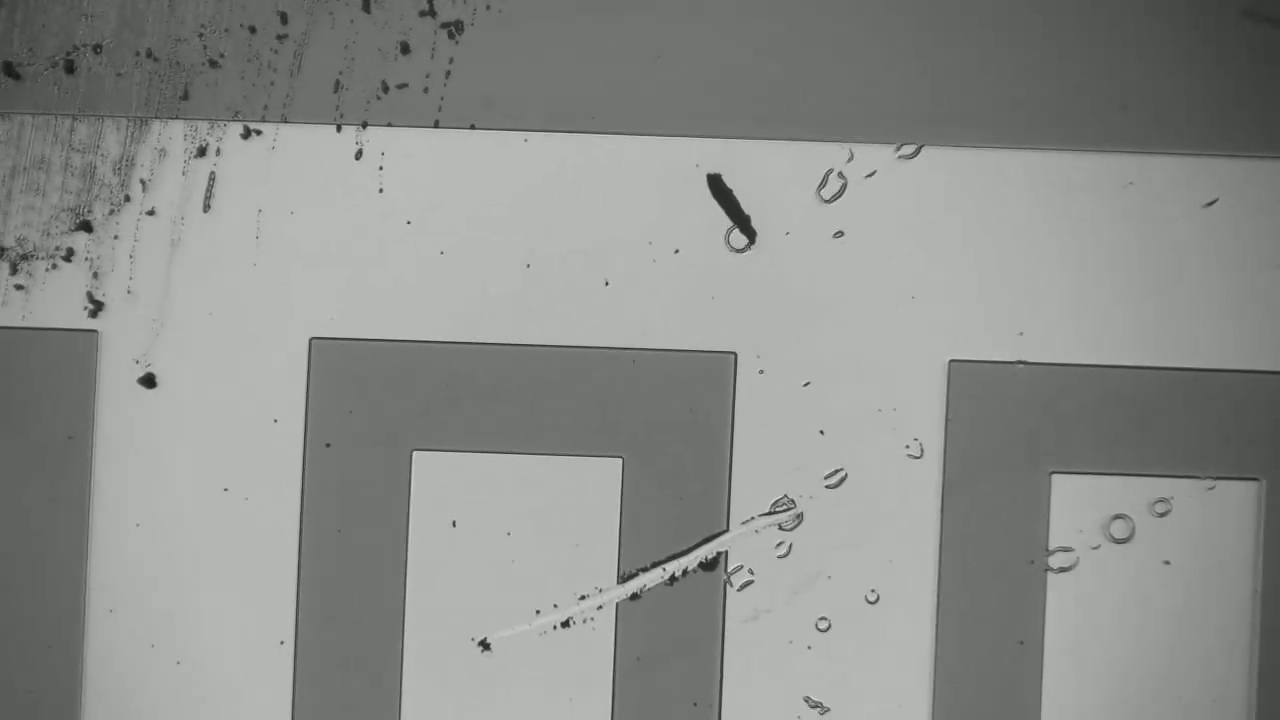Short_circuit: (584, 497, 761, 623)
